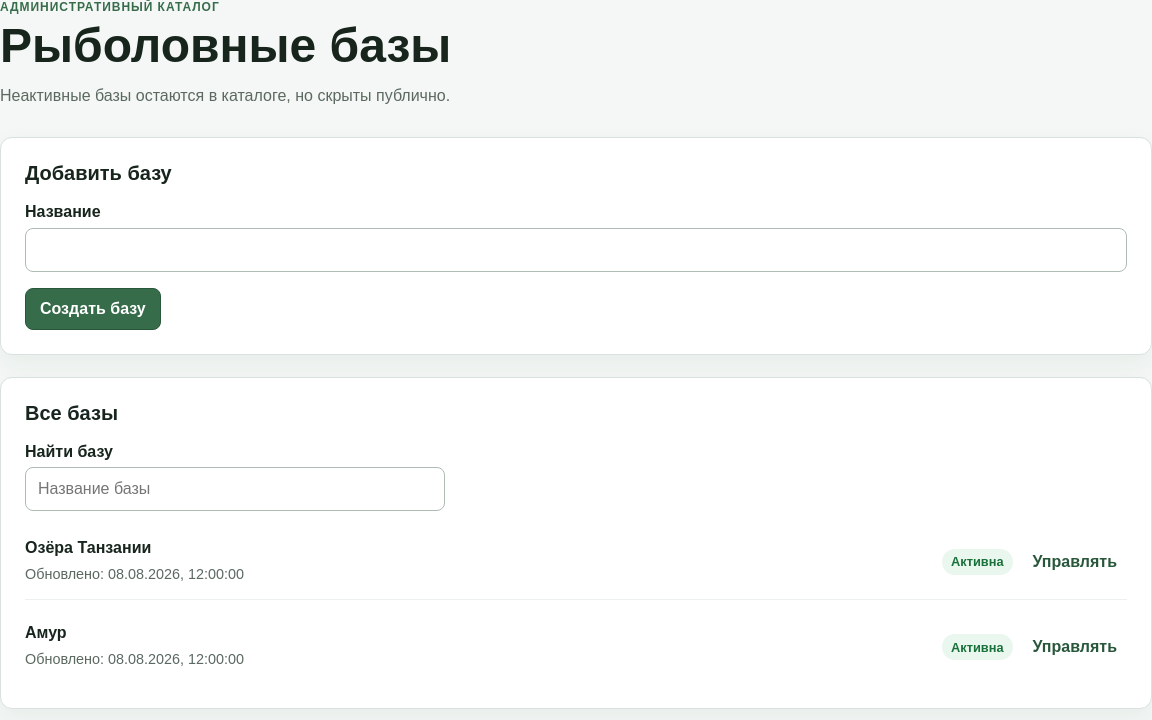
AdminFishingBasesPage search › finds a Base by the shared catalog token search
Type "танз" into the search field labelled "Найти базу" at x=235, y=489, box [25,467,445,511]
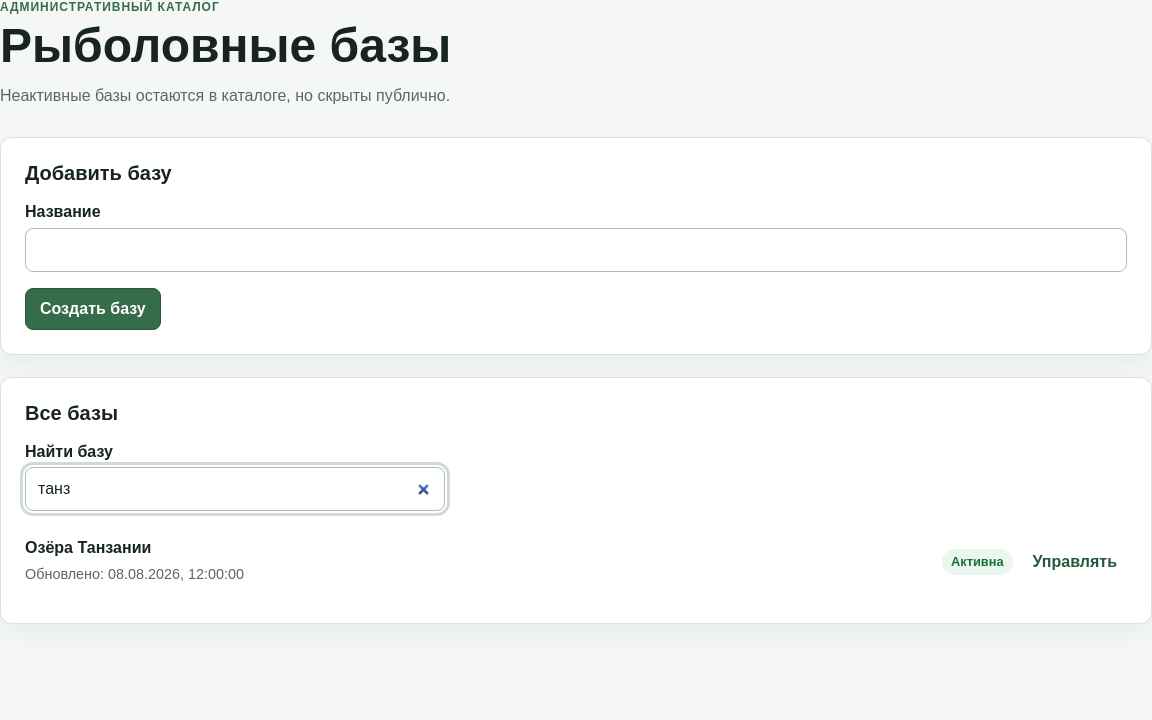
Expected: the text "Озёра Танзании" is shown, [25,539,151,556]
Expected: the text "Амур" is gone
